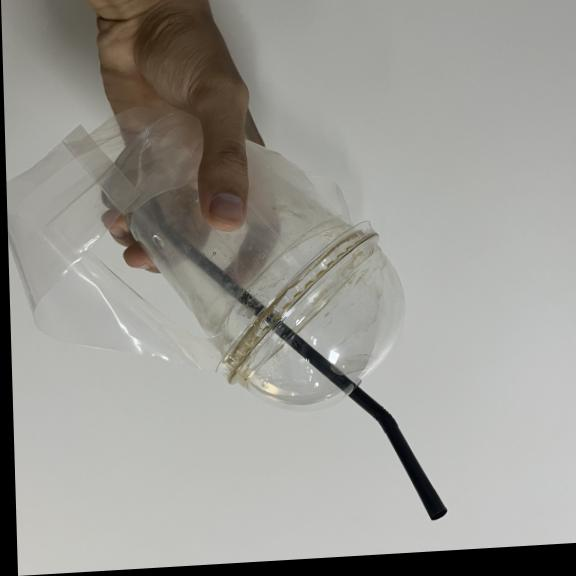Plastik: (115, 110, 403, 409)
